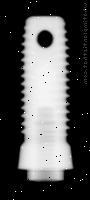Nobel Biocare: (17, 14, 80, 173)
